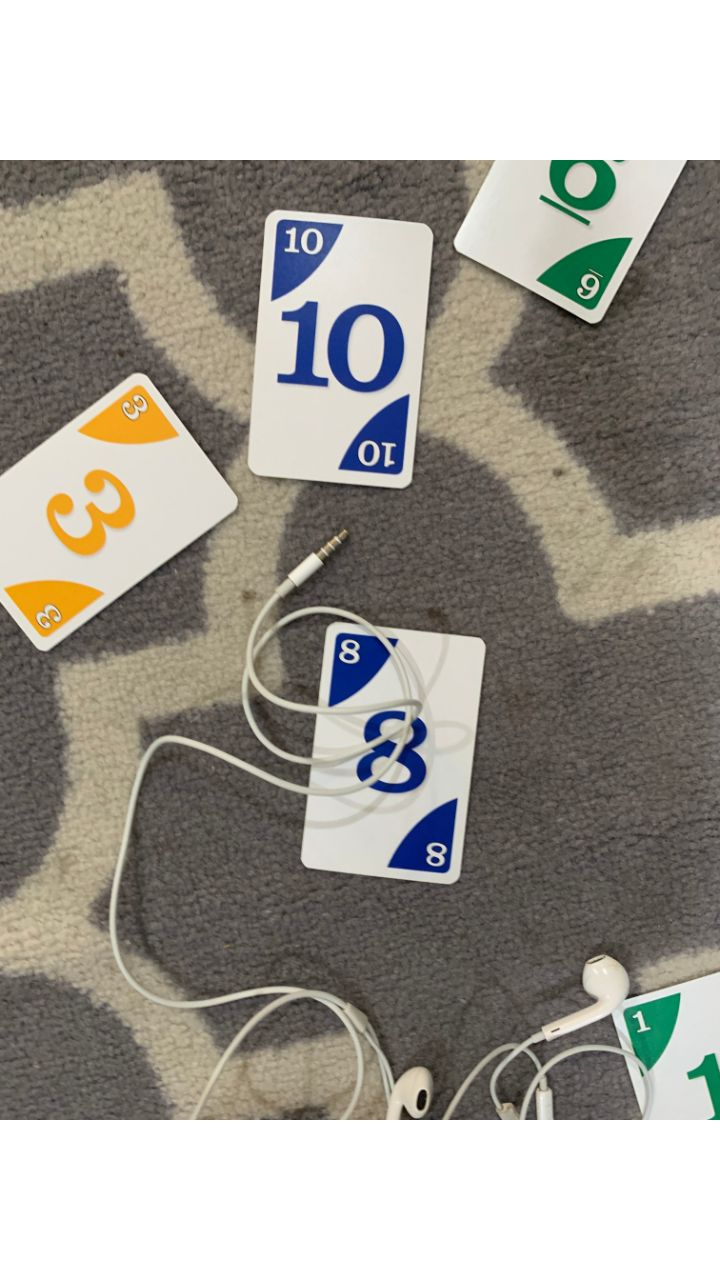eight: (299, 617, 491, 888)
ten: (243, 206, 435, 499)
